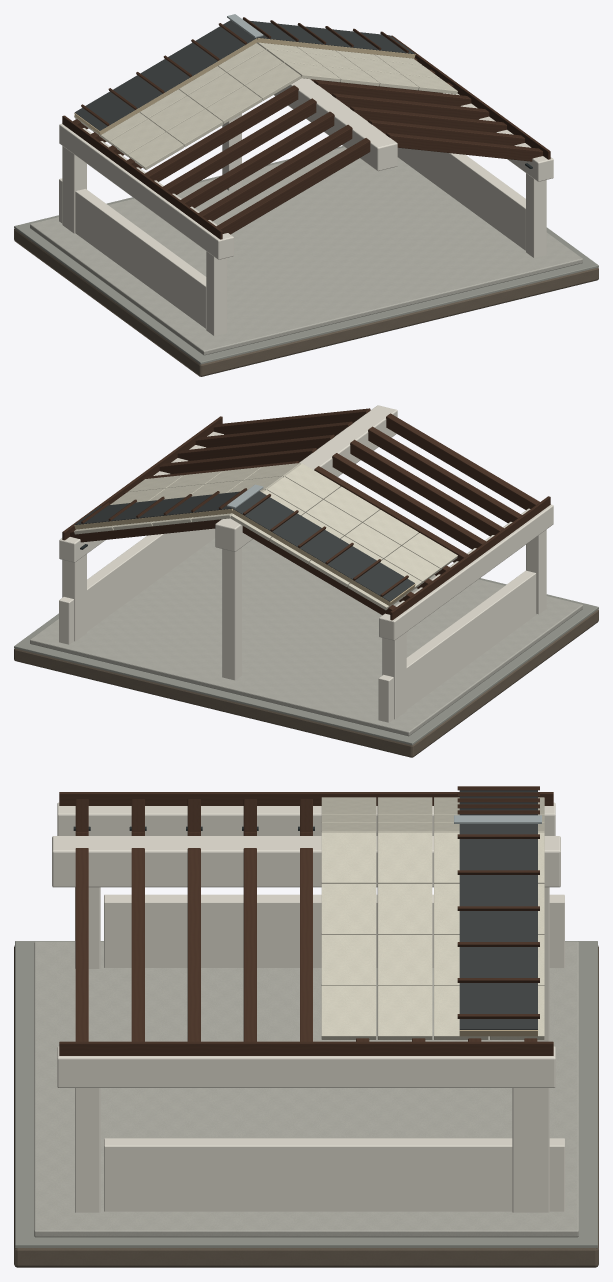
Rendered from tetto-D8c9UVFY.glb.
3 renders of one model, top to bottom at view 1: azimuth 30°, elevation 25°; view 2: azimuth 150°, elevation 25°; view 3: azimuth 270°, elevation 25°, orthographic. The views are drawn at different scales.
Visible parts, largest first — view 1: phase_foundation__concrete, phase_structure__plaster, phase_structure__darkwood, phase_envelope__limestone, phase_site__soil, phase_finish__membrane, phase_foundation__gravel, phase_finish__darkwood, phase_finish__insulation; view 2: phase_foundation__concrete, phase_structure__plaster, phase_structure__darkwood, phase_envelope__limestone, phase_site__soil, phase_finish__membrane, phase_foundation__gravel, phase_finish__darkwood, phase_finish__insulation; view 3: phase_structure__plaster, phase_foundation__concrete, phase_envelope__limestone, phase_foundation__gravel, phase_finish__darkwood, phase_structure__darkwood, phase_finish__membrane, phase_site__soil, phase_details__metal.
Boxes of the visible parts, bbox=[...] form: phase_foundation__concrete: bbox=[30, 147, 582, 355]; phase_structure__plaster: bbox=[59, 78, 553, 335]; phase_structure__darkwood: bbox=[73, 58, 542, 234]; phase_envelope__limestone: bbox=[74, 42, 457, 169]; phase_site__soil: bbox=[14, 228, 598, 376]; phase_finish__membrane: bbox=[75, 20, 414, 130]; phase_foundation__gravel: bbox=[14, 146, 598, 364]; phase_finish__darkwood: bbox=[62, 17, 550, 239]; phase_finish__insulation: bbox=[74, 38, 415, 134]; phase_foundation__concrete: bbox=[30, 538, 582, 736]; phase_structure__plaster: bbox=[59, 405, 553, 722]; phase_structure__darkwood: bbox=[70, 408, 539, 615]; phase_envelope__limestone: bbox=[74, 463, 457, 610]; phase_site__soil: bbox=[14, 609, 598, 757]; phase_finish__membrane: bbox=[75, 491, 414, 601]; phase_foundation__gravel: bbox=[14, 578, 598, 745]; phase_finish__darkwood: bbox=[62, 416, 550, 620]; phase_finish__insulation: bbox=[74, 508, 415, 605]; phase_structure__plaster: bbox=[52, 802, 564, 1212]; phase_foundation__concrete: bbox=[34, 941, 578, 1237]; phase_envelope__limestone: bbox=[321, 797, 544, 1039]; phase_foundation__gravel: bbox=[15, 941, 597, 1248]; phase_finish__darkwood: bbox=[59, 786, 553, 1055]; phase_structure__darkwood: bbox=[75, 799, 537, 1041]; phase_finish__membrane: bbox=[459, 790, 537, 1029]; phase_site__soil: bbox=[14, 945, 598, 1267]; phase_details__metal: bbox=[454, 815, 541, 823].
Size of the model in its own units: 9 by 4.11 by 7.3.
Materials: 10 (4 with a texture image).
